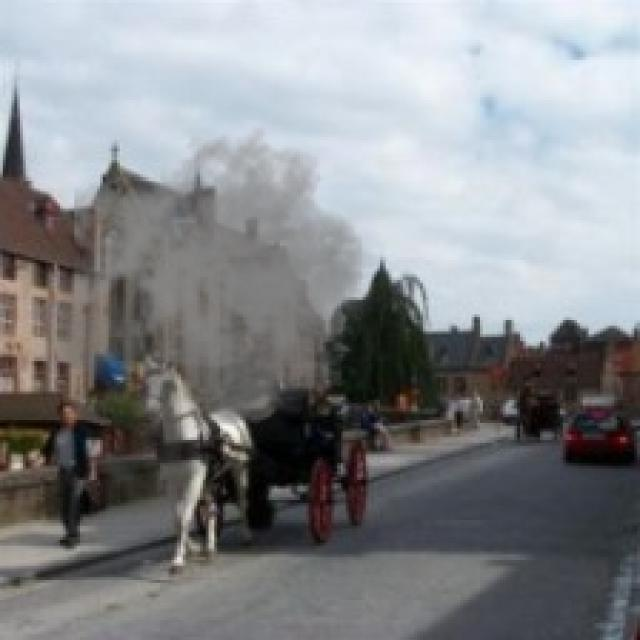smoke: (31, 126, 388, 531)
